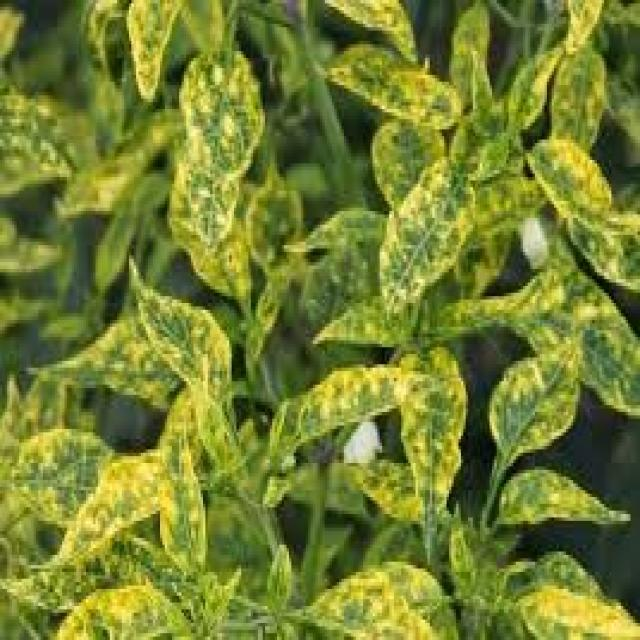virus_kuning: (376, 156, 487, 319), (42, 438, 159, 562), (518, 126, 621, 246), (486, 328, 581, 457), (157, 418, 216, 566)
